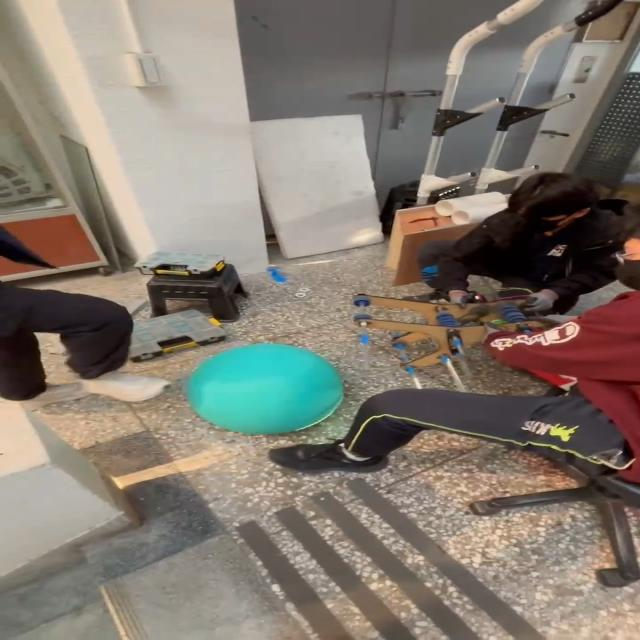ALGAE: (183, 342, 345, 436)
